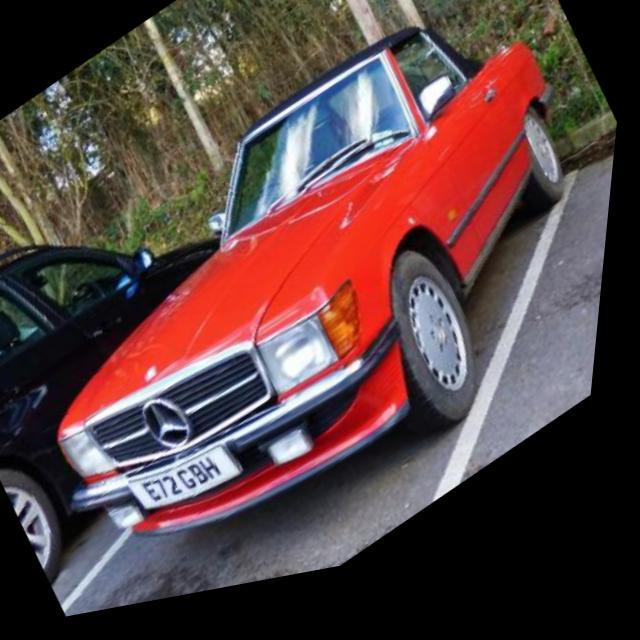license_plate: (135, 429, 254, 544)
